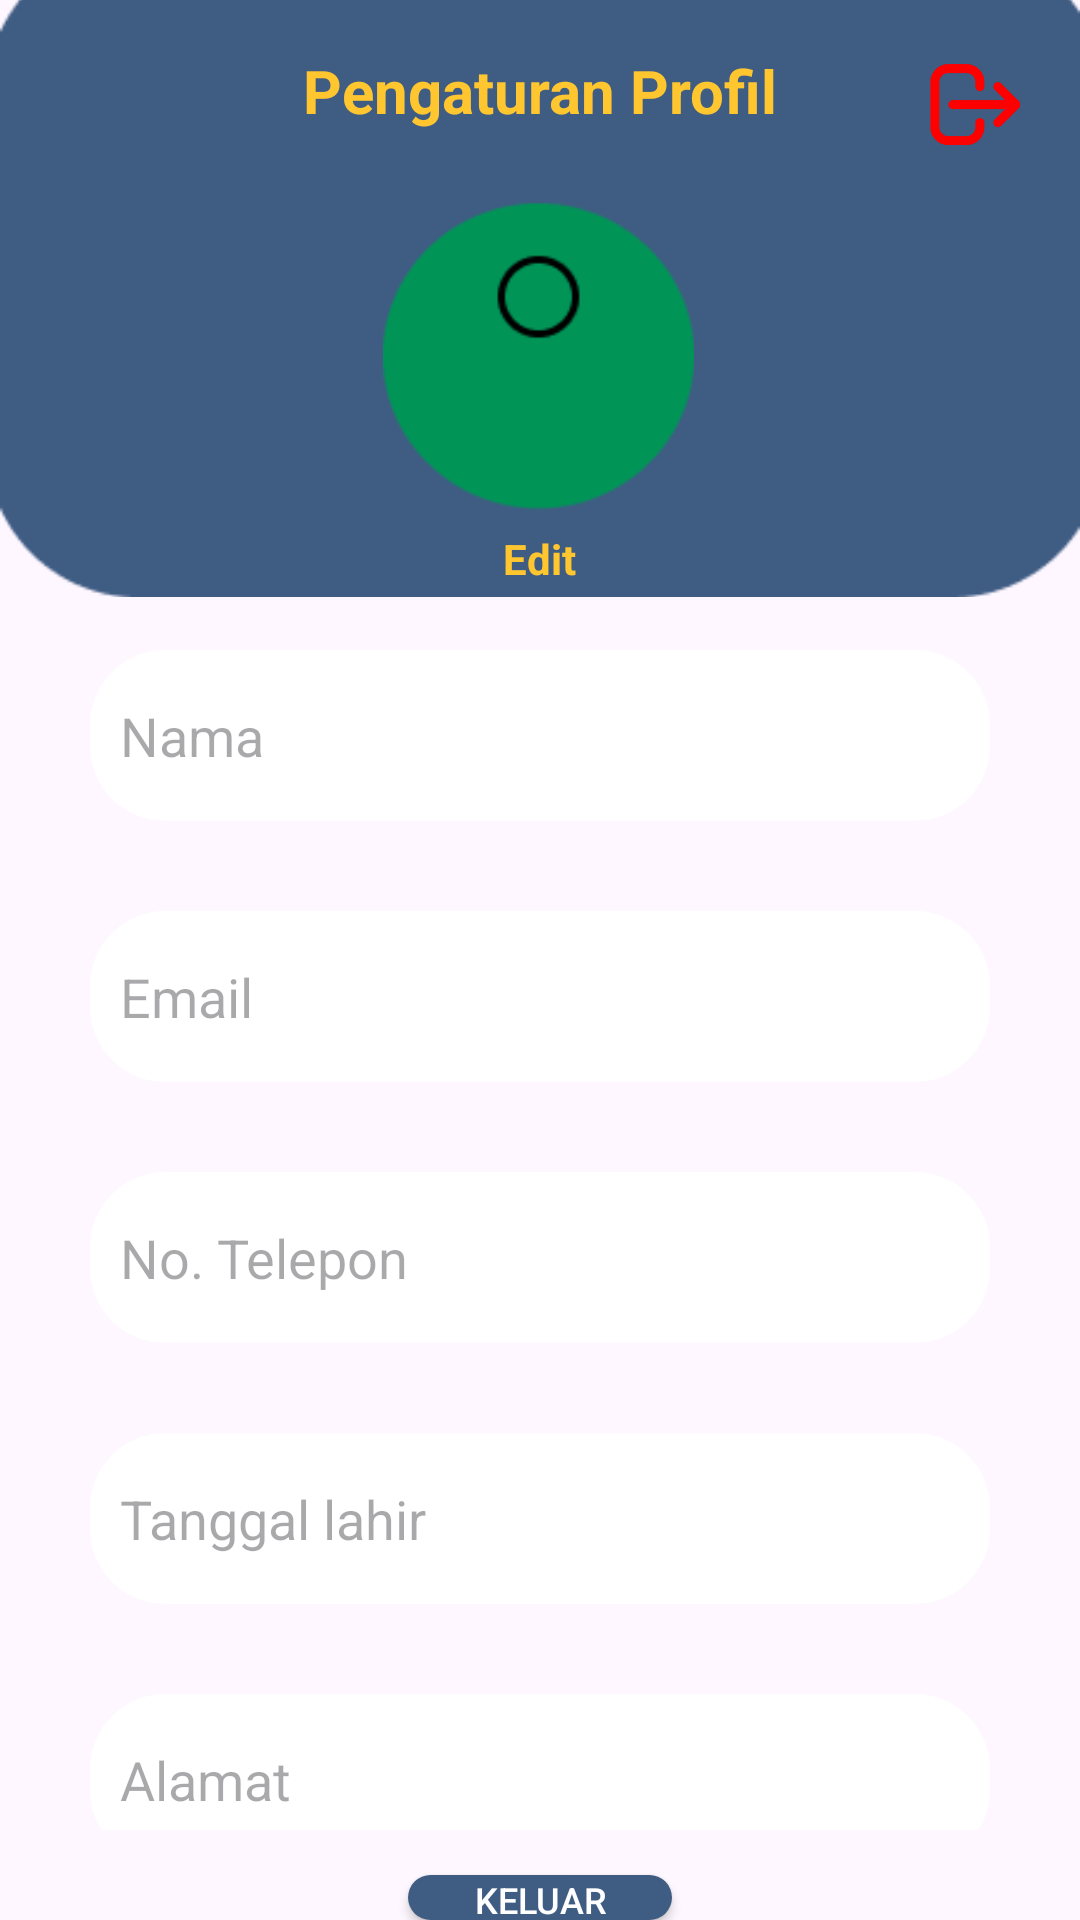

Icon bounding boxes for this 1080px×1920px phone screenshot, format region(x1, y1, x2, y2):
lgout: region(930, 64, 1020, 145)
